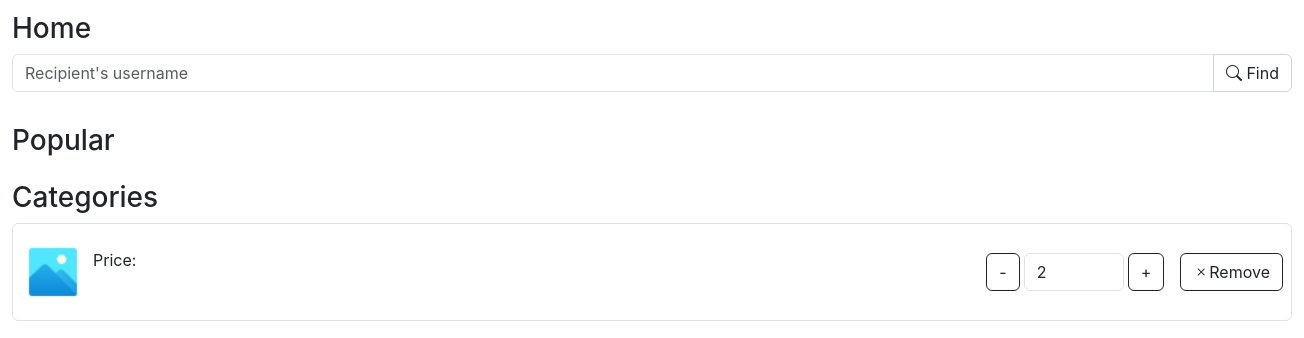
Test: CartProductCard tests › Minus quantity
The image size is (1304, 338).
expect the element with test id "cart-product-card" is shown: met, box [12,223,1292,321]
Click the button with test id "minus-btn" at {"x": 1003, "y": 272}, box [986,253,1020,291]
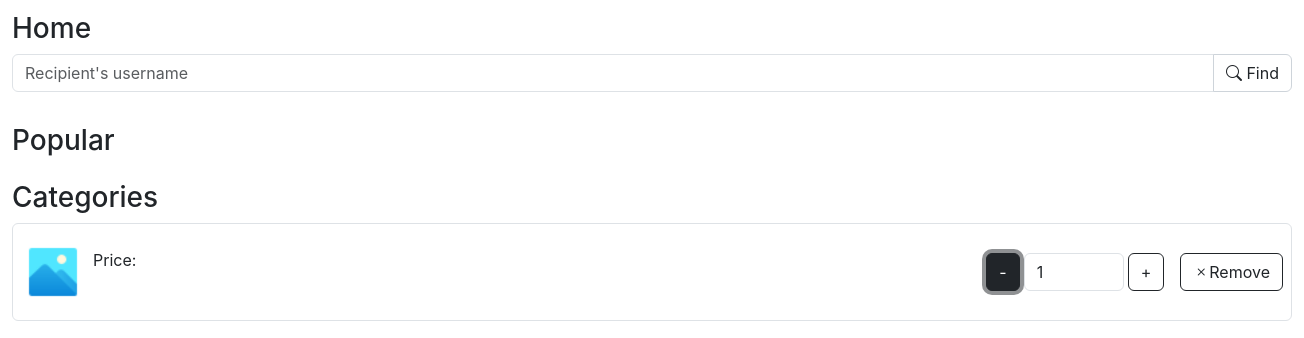
expect the number field with test id "quantity-field" holds "1": met, box [1024,253,1124,291]
